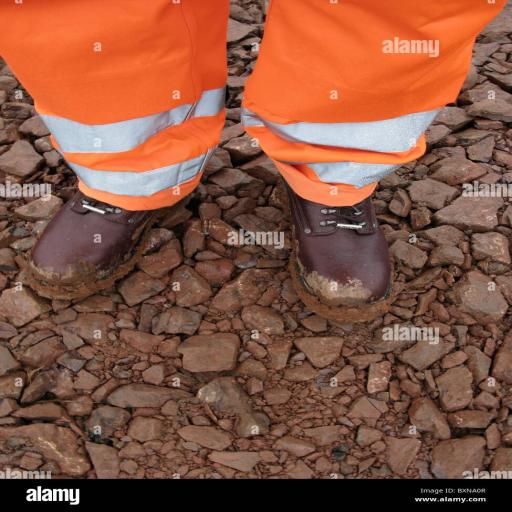safety_boots: (270, 191, 408, 314), (30, 191, 134, 299)
